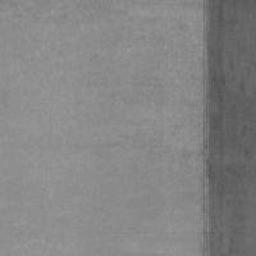Welding line: (201, 0, 211, 256)
